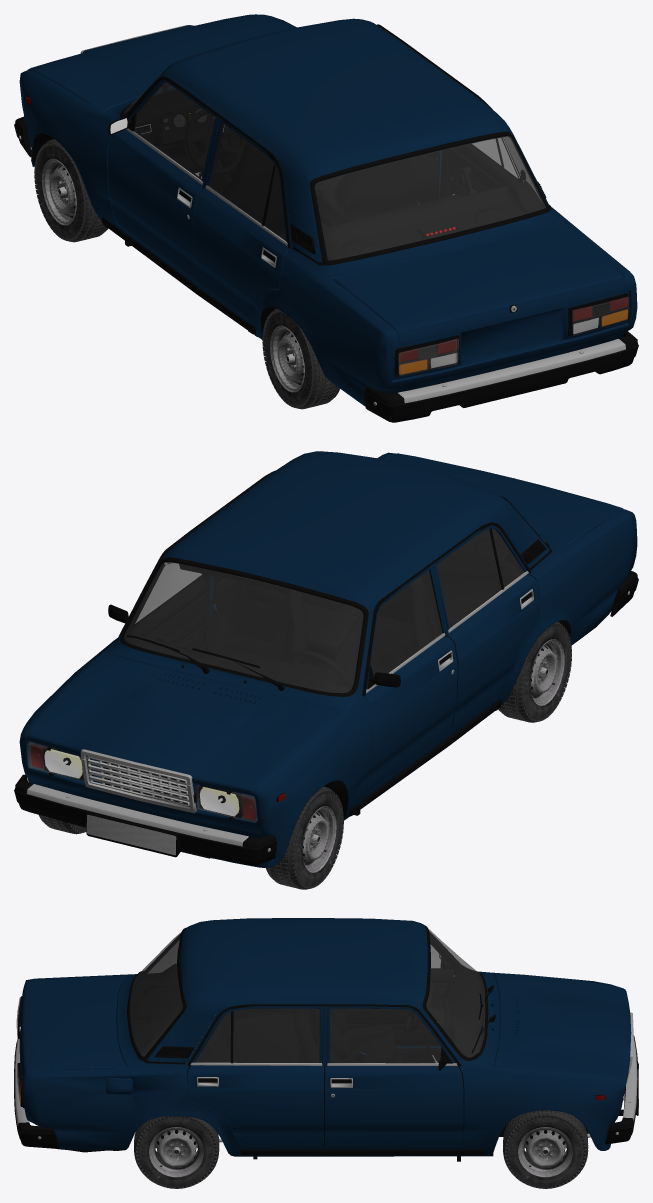
File: lada-2107.glb
3 renders of one model, top to bottom at view 1: azimuth 30°, elevation 25°; view 2: azimuth 150°, elevation 25°; view 3: azimuth 270°, elevation 25°, orthographic. The views are drawn at different scales.
Parts seen in each view (by area): view 1: base_BaseColorCuzov_0, base_plastik_0, bag_BaseColorCuzov_0, WinZ_steclo_0, kapot_BaseColorCuzov_0, DverP001_BaseColorCuzov_0, DverP002_BaseColorCuzov_0, ZBamp_plastik_0, DverP002_steclo_0, Wheel L Z_Wheel_0, DverP001_steclo_0, Wheel L P_Wheel_0 (+6 smaller); view 2: base_BaseColorCuzov_0, base_plastik_0, kapot_BaseColorCuzov_0, WinP_steclo_0, DverP001_BaseColorCuzov_0, DverP002_BaseColorCuzov_0, bag_BaseColorCuzov_0, Wheel L P_Wheel_0, DverP002_steclo_0, DverP001_steclo_0, Wheel L Z_Wheel_0, PBamp_plastik_0 (+10 smaller); view 3: base_BaseColorCuzov_0, DverP_BaseColorCuzov_0 (×2), base_plastik_0, kapot_BaseColorCuzov_0, DverP_steclo_0 (×2), bag_BaseColorCuzov_0, Wheel P P_Wheel_0, Wheel P Z_Wheel_0, WinP_steclo_0, WinZ_steclo_0, DverP001_plastik_0, WinP_plastik_0 (+10 smaller).
Boxes of the visible parts, x1,y1,x2,y2 form: base_BaseColorCuzov_0: [19, 14, 637, 406]; base_plastik_0: [26, 24, 629, 384]; bag_BaseColorCuzov_0: [333, 223, 625, 346]; WinZ_steclo_0: [315, 136, 545, 260]; kapot_BaseColorCuzov_0: [27, 14, 292, 112]; DverP001_BaseColorCuzov_0: [107, 79, 217, 284]; DverP002_BaseColorCuzov_0: [193, 118, 288, 320]; ZBamp_plastik_0: [364, 331, 638, 422]; DverP002_steclo_0: [209, 123, 285, 240]; Wheel L Z_Wheel_0: [262, 308, 339, 409]; DverP001_steclo_0: [134, 83, 215, 180]; Wheel L P_Wheel_0: [34, 139, 108, 242]; base_BaseColorCuzov_0: [19, 451, 637, 867]; base_plastik_0: [40, 470, 619, 858]; kapot_BaseColorCuzov_0: [27, 654, 340, 795]; WinP_steclo_0: [124, 562, 363, 692]; DverP001_BaseColorCuzov_0: [364, 566, 457, 793]; DverP002_BaseColorCuzov_0: [434, 525, 539, 732]; bag_BaseColorCuzov_0: [385, 453, 623, 547]; Wheel L P_Wheel_0: [266, 786, 343, 889]; DverP002_steclo_0: [436, 529, 523, 627]; DverP001_steclo_0: [370, 570, 442, 675]; Wheel L Z_Wheel_0: [498, 621, 571, 722]; PBamp_plastik_0: [14, 774, 276, 865]; base_BaseColorCuzov_0: [19, 918, 626, 1156]; DverP_BaseColorCuzov_0 (×2): [188, 1006, 463, 1146]; base_plastik_0: [18, 935, 628, 1161]; kapot_BaseColorCuzov_0: [493, 973, 631, 1083]; DverP_steclo_0 (×2): [196, 1009, 440, 1062]; bag_BaseColorCuzov_0: [19, 976, 126, 1082]; Wheel P P_Wheel_0: [503, 1110, 588, 1188]; Wheel P Z_Wheel_0: [134, 1116, 219, 1188]; WinP_steclo_0: [426, 929, 484, 1057]; WinZ_steclo_0: [130, 931, 182, 1056]; DverP001_plastik_0: [344, 956, 454, 1045]; WinP_plastik_0: [422, 925, 488, 1060].
Size of the model in its own units: 1.99 by 1.54 by 4.56.
Materials: 15 (2 with a texture image).
